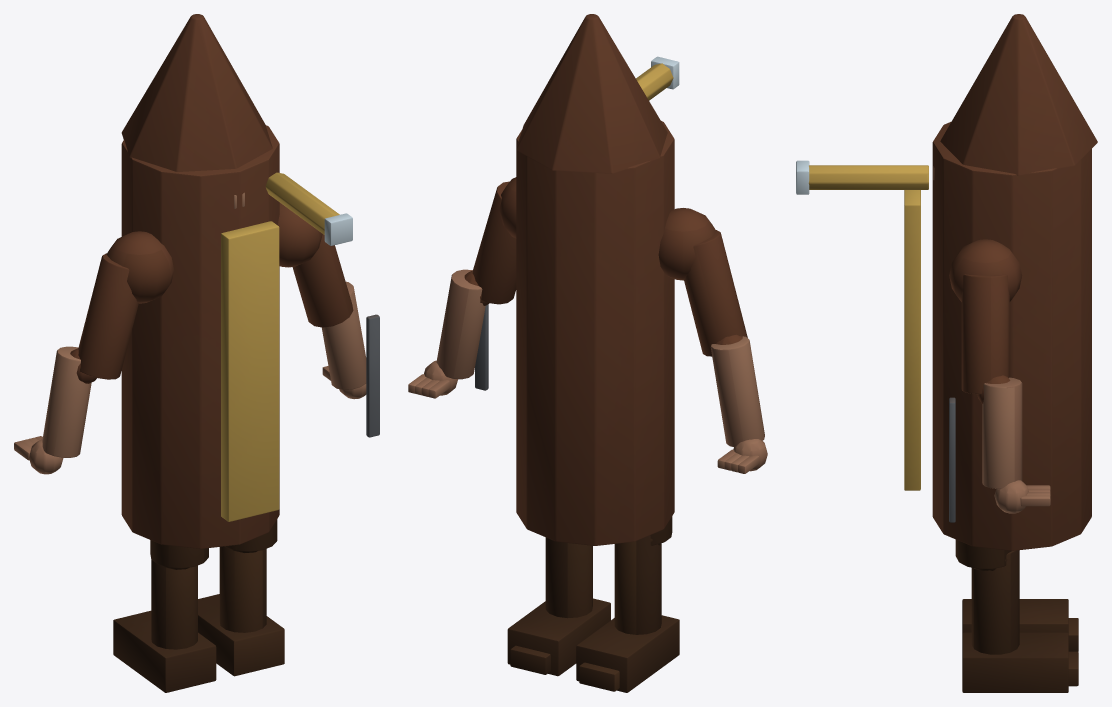
The model's file is unit_church_sun_stalker.fbx.
The picture shows the model from 3 angles, left to right: view 1: azimuth 30°, elevation 25°; view 2: azimuth 150°, elevation 25°; view 3: azimuth 270°, elevation 25°; orthographic projection.
Visible parts, largest first — view 1: unit_church_sun_stalker; view 2: unit_church_sun_stalker; view 3: unit_church_sun_stalker.
Boxes of the visible parts, x1,y1,x2,y2 form: unit_church_sun_stalker: [14, 14, 379, 692]; unit_church_sun_stalker: [408, 14, 767, 692]; unit_church_sun_stalker: [796, 14, 1097, 692].
Bounding box in the file's own units: 1.18 × 2.15 × 0.9074.
